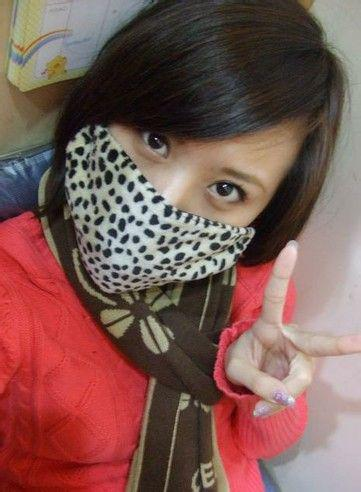OK: (76, 71, 270, 288)
